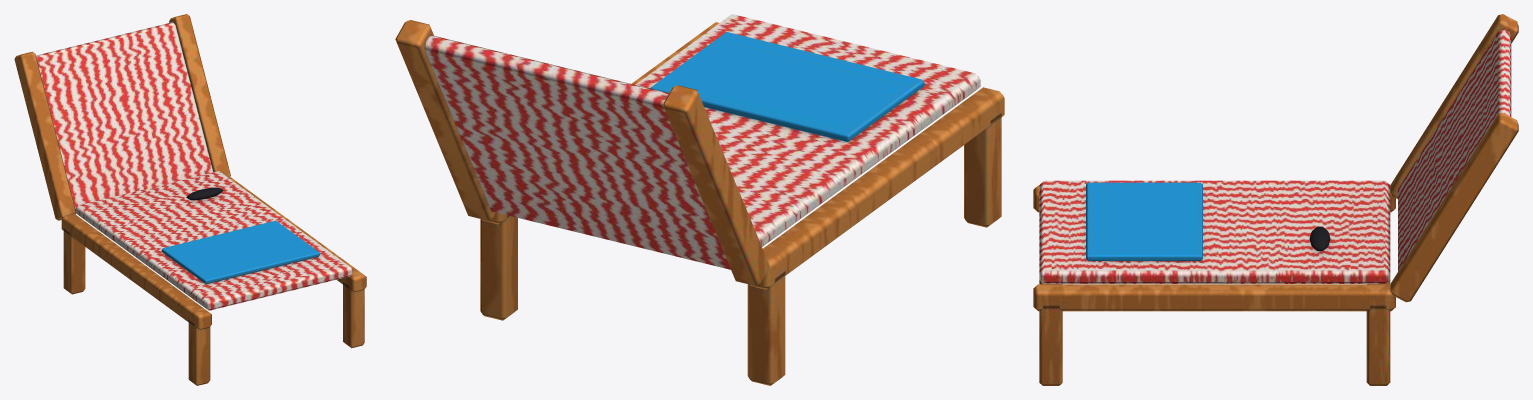
Rendered from sun_lounger.glb.
The picture shows the model from 3 angles, left to right: view 1: azimuth 30°, elevation 25°; view 2: azimuth 150°, elevation 25°; view 3: azimuth 270°, elevation 25°; orthographic projection. The views are drawn at different scales.
Visible parts, largest first — view 1: sun_lounger; view 2: sun_lounger; view 3: sun_lounger.
Part boxes in pixels (box(x1,y1,x2,y2)): sun_lounger: box(14, 14, 366, 385); sun_lounger: box(395, 14, 1004, 385); sun_lounger: box(1033, 14, 1518, 385).
Bounding box in the file's own units: 0.44 × 0.5023 × 0.8294.
Materials: 1 (1 with a texture image).
